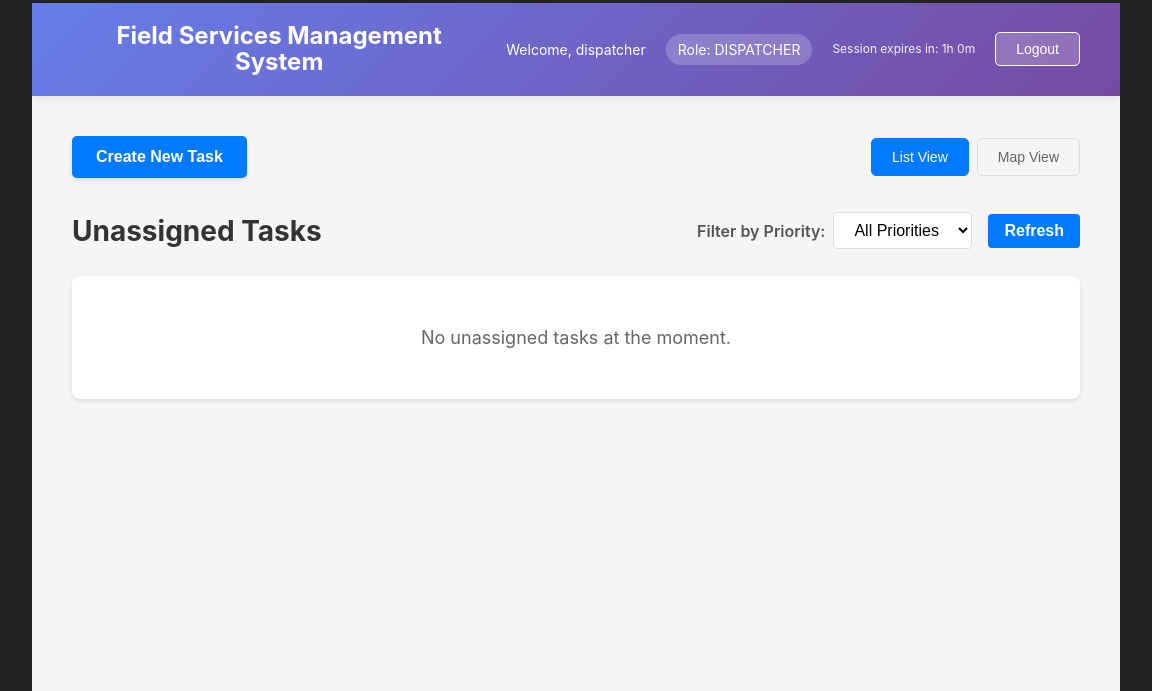
Test case: Dashboard Component › should handle task creation error
Click the button "Create New Task": (159, 157) [72,136,247,178]
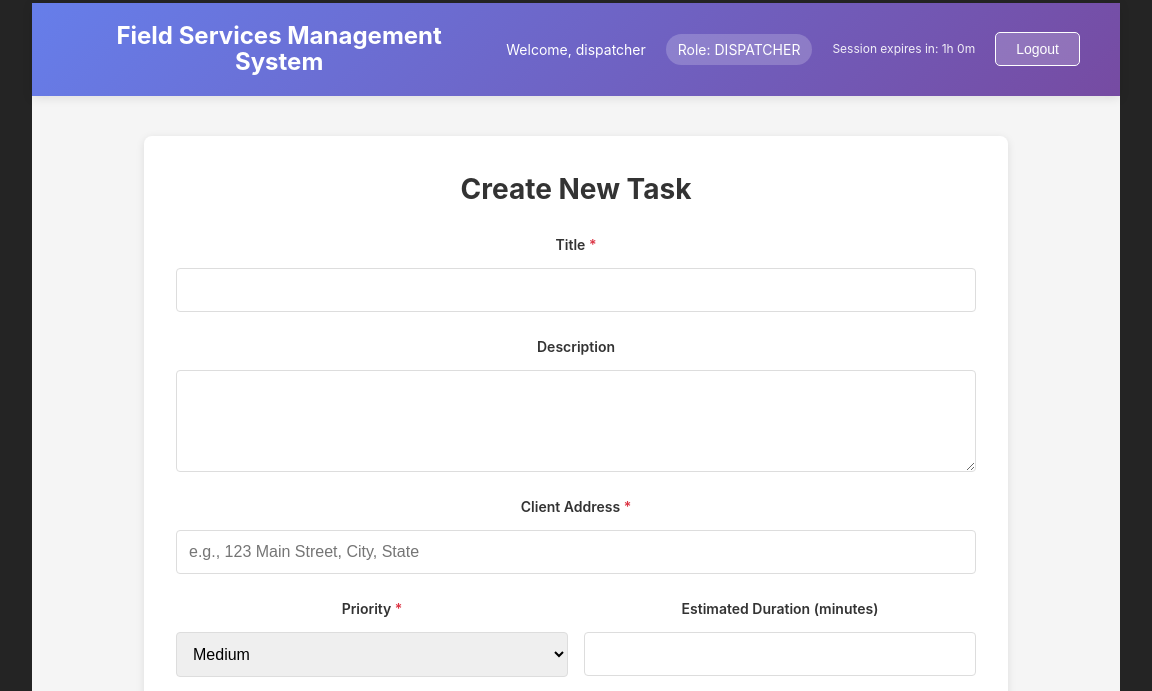
Now the heading "Create New Task" is shown, box [461,172,691,206]
In the field labelled "Title *": (576, 290) [176,268,976,312], type "New Task"
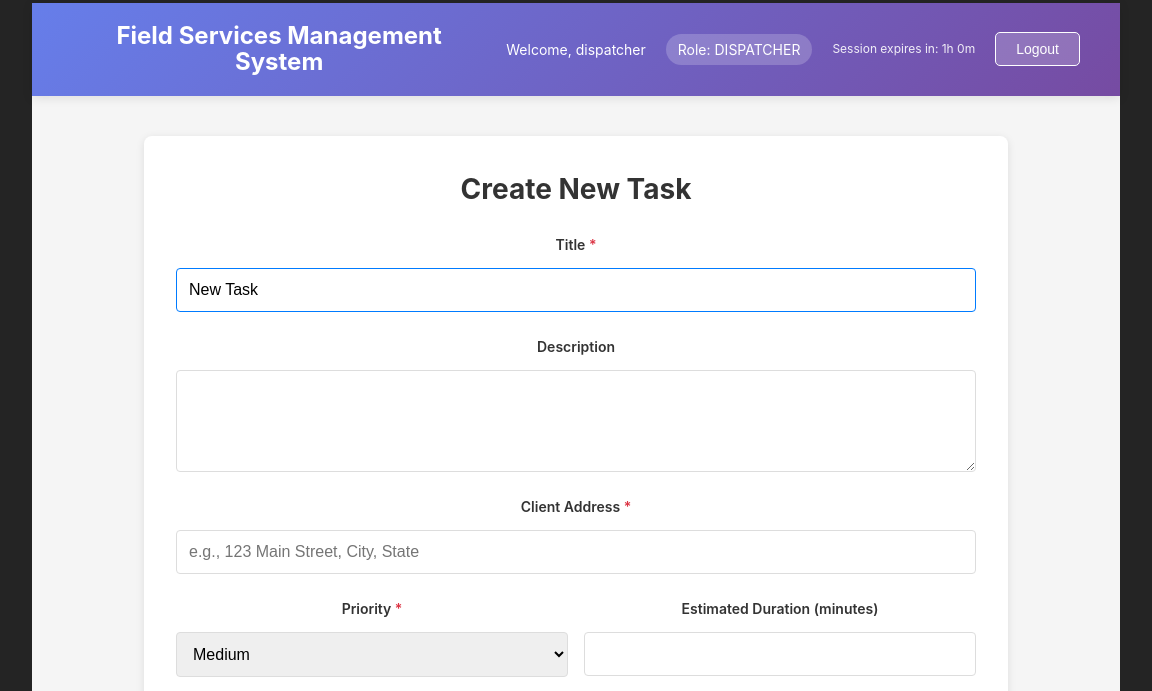
In the field labelled "Client Address *": (576, 552) [176,530,976,574], type "123 Main St"
(page scrolled)
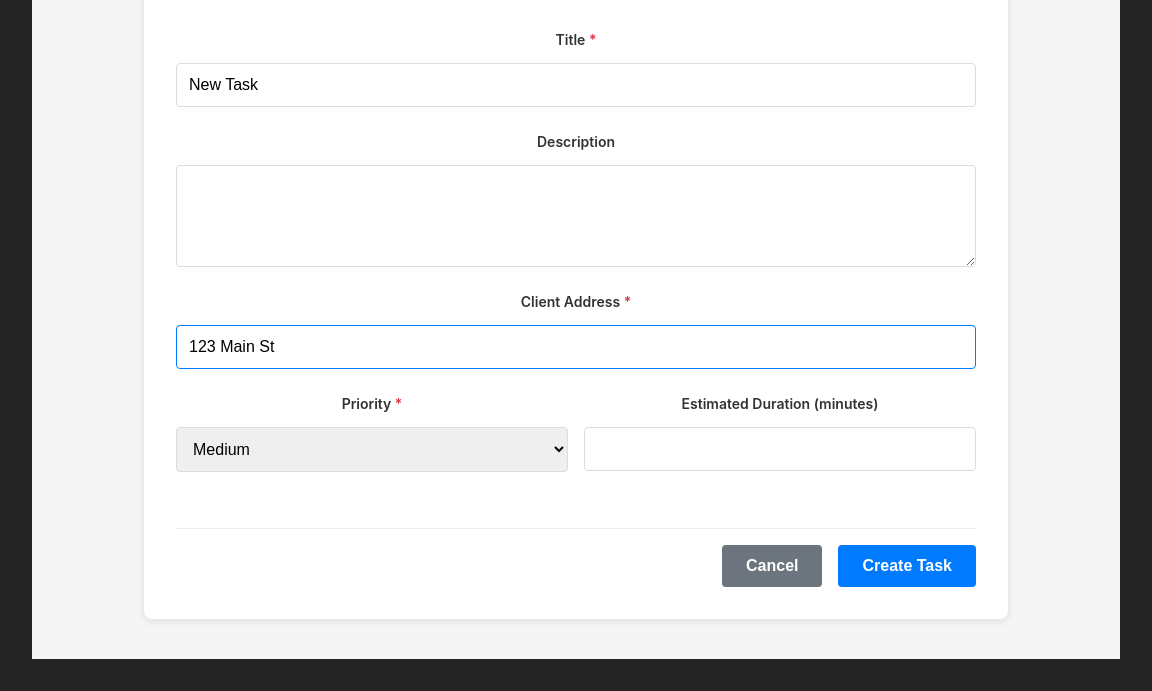
Click the button "Create Task": (907, 566) [838,545,976,587]
(page scrolled)
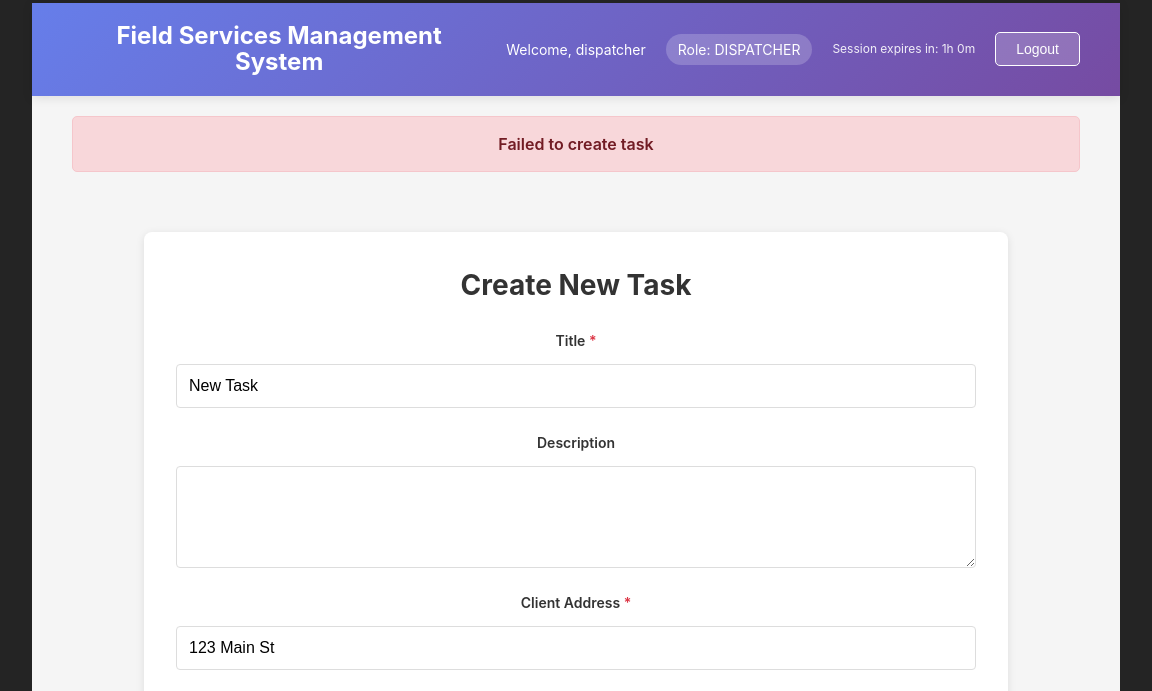
Now the text "Failed to create task" is shown, box [72,116,1080,172]
